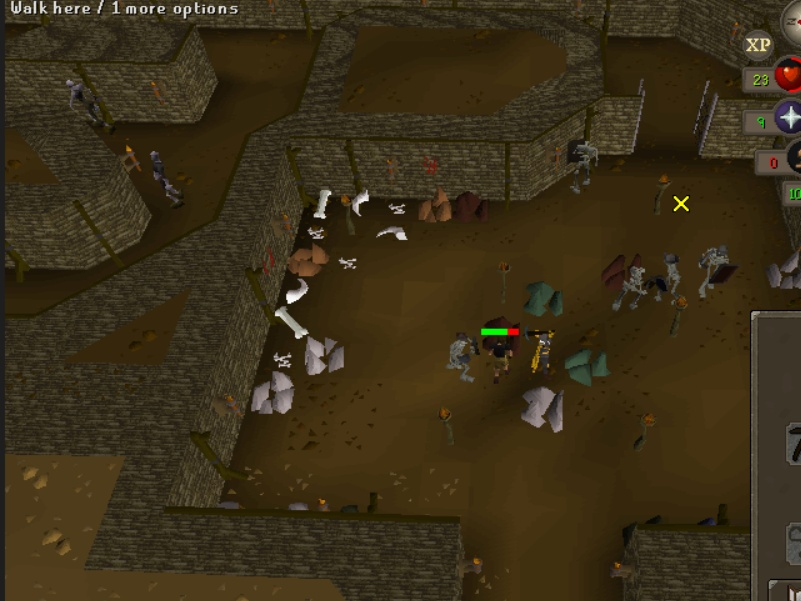adamant: (563, 342, 617, 389), (518, 275, 572, 322)
copper: (285, 235, 335, 279), (413, 183, 456, 230)
iron: (599, 245, 649, 294), (479, 305, 529, 354), (452, 187, 495, 228)
silver: (248, 363, 300, 422), (299, 326, 351, 385), (518, 379, 570, 438)
tin: (762, 246, 801, 292)
